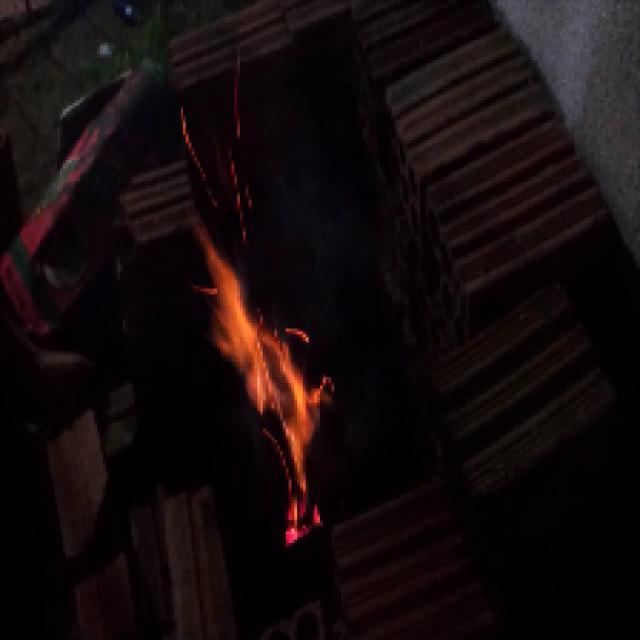Fire: (192, 230, 320, 500)
